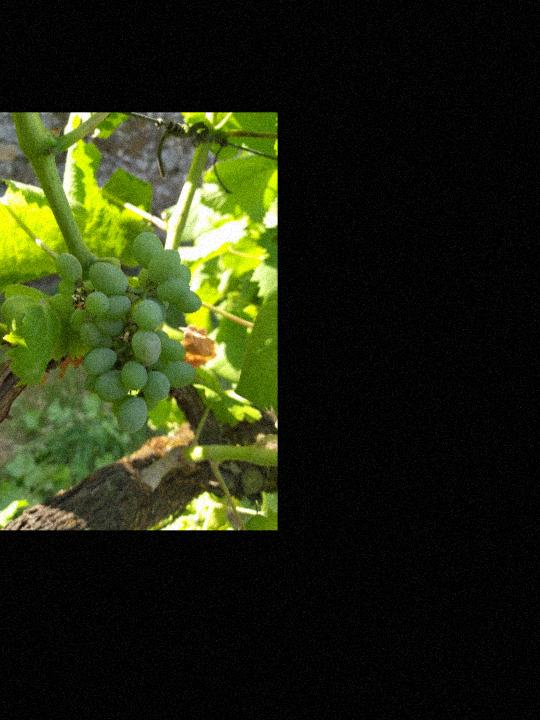grape: (51, 229, 203, 438)
